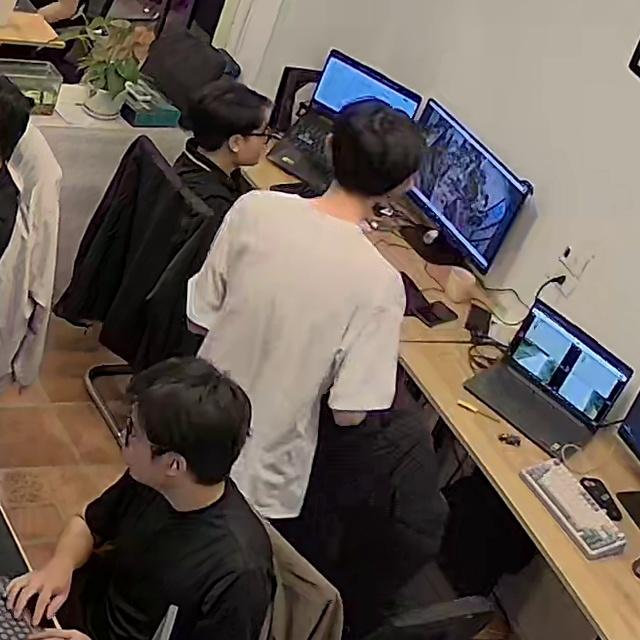no_helmet: (124, 357, 254, 482), (327, 102, 427, 198), (186, 80, 271, 152)
none: (182, 186, 408, 522), (70, 473, 275, 638)
